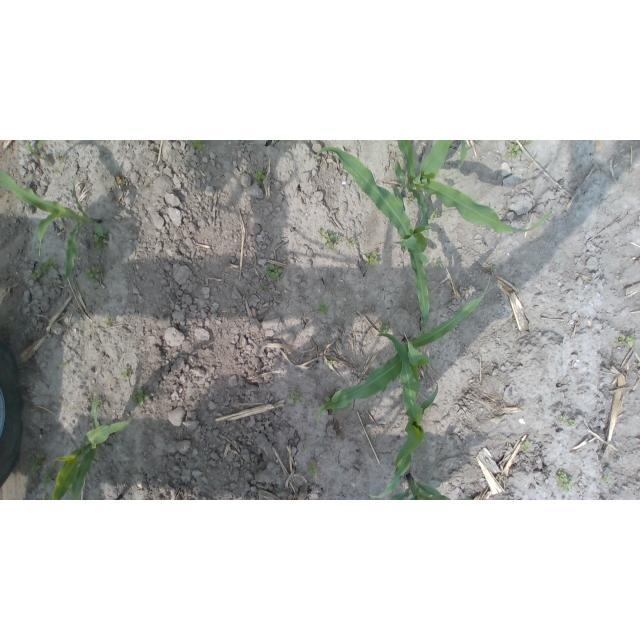Maize: (317, 277, 491, 419), (316, 147, 432, 331), (394, 140, 553, 237), (367, 332, 440, 498), (1, 171, 104, 278), (41, 396, 137, 500), (390, 472, 474, 500)
Weeds: (319, 229, 343, 252), (264, 262, 284, 283), (612, 332, 636, 348), (28, 453, 44, 477), (556, 471, 574, 492), (41, 460, 56, 484), (83, 267, 102, 285), (92, 229, 109, 249), (132, 387, 149, 406), (25, 141, 40, 160), (42, 257, 58, 274), (505, 143, 523, 158), (364, 252, 380, 268), (318, 300, 329, 316), (252, 168, 266, 180), (520, 440, 533, 452), (291, 392, 303, 405), (31, 267, 42, 281), (307, 462, 317, 476), (191, 140, 205, 149), (379, 324, 391, 334), (431, 208, 441, 220), (119, 368, 129, 378), (103, 316, 113, 325), (259, 284, 269, 293), (43, 488, 49, 501), (520, 140, 533, 146), (37, 140, 45, 148), (347, 236, 355, 244), (437, 260, 444, 269), (406, 197, 414, 204), (329, 408, 339, 413), (55, 167, 62, 174), (496, 473, 504, 479), (488, 265, 497, 270), (328, 361, 337, 366), (55, 155, 64, 160), (568, 419, 575, 425), (323, 396, 329, 403), (97, 400, 102, 408), (559, 414, 565, 420), (604, 475, 609, 481), (302, 446, 308, 451), (144, 182, 149, 188), (61, 364, 66, 369), (47, 160, 52, 165), (280, 141, 288, 144), (638, 362, 640, 367)
